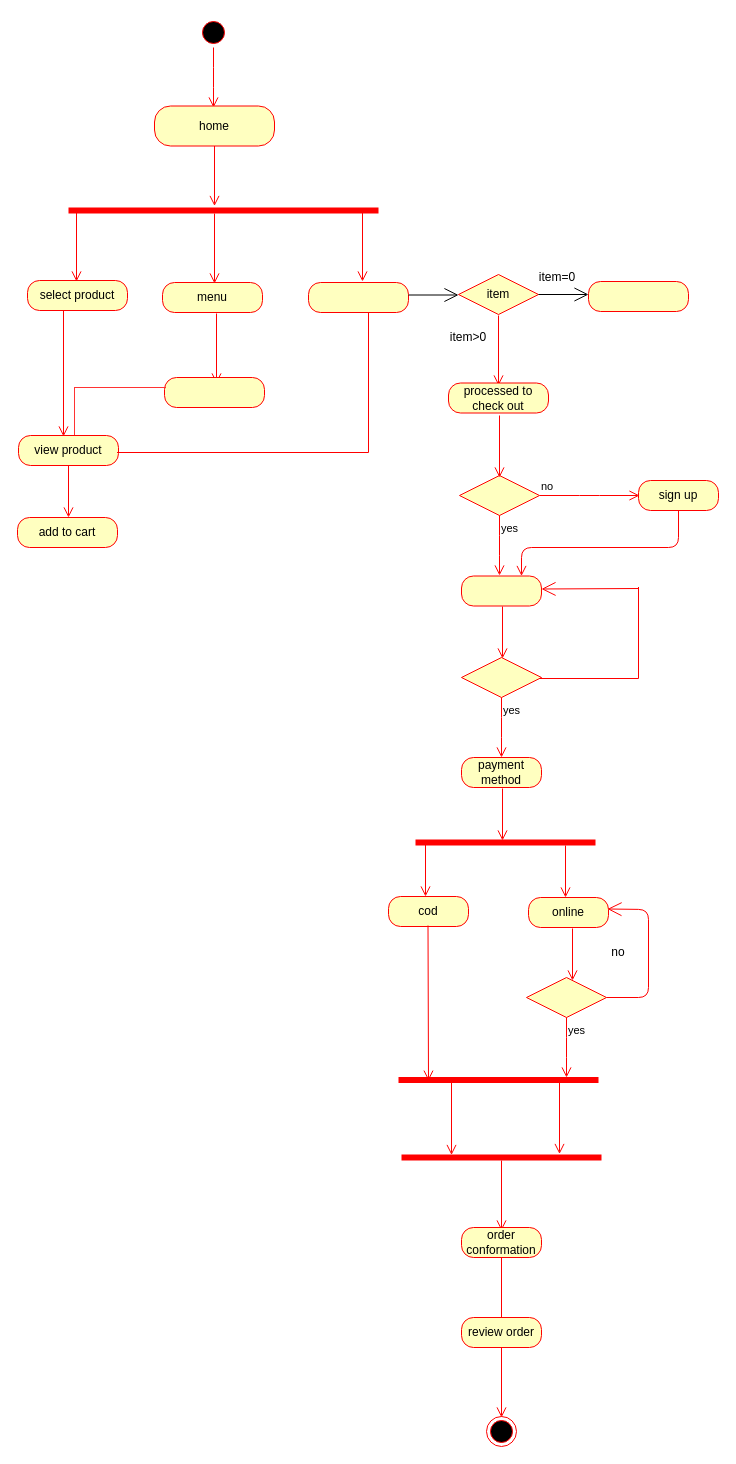
Some shapes in this 736 by 1464 pixel diagram are drawn without their labels. The shapes that lost their labels are listed below. From the top down, each one's box as (x1, y1, x2, y2) in pixels, then its label:
(308, 282, 408, 312): my cart
(588, 280, 688, 312): continue shopping
(164, 376, 264, 408): select category
(458, 474, 540, 516): login
(460, 575, 542, 606): payment info
(460, 656, 542, 698): correct
(526, 976, 606, 1018): info correct
